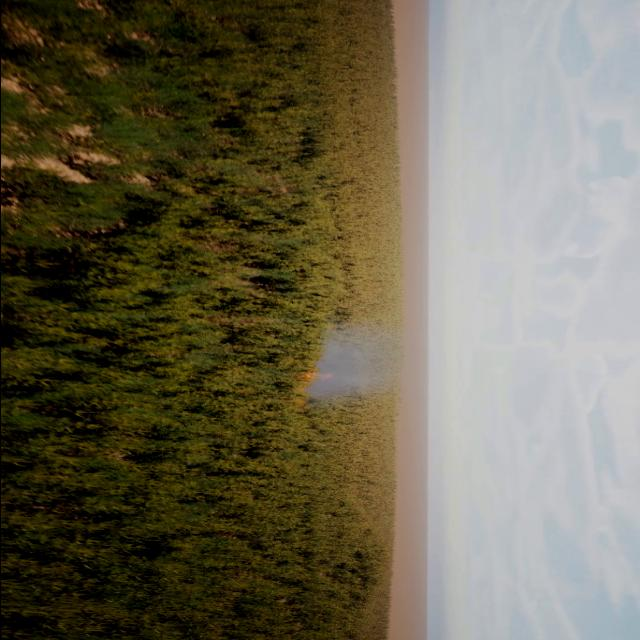fire: (305, 371, 335, 383)
smoke: (294, 322, 412, 404)
